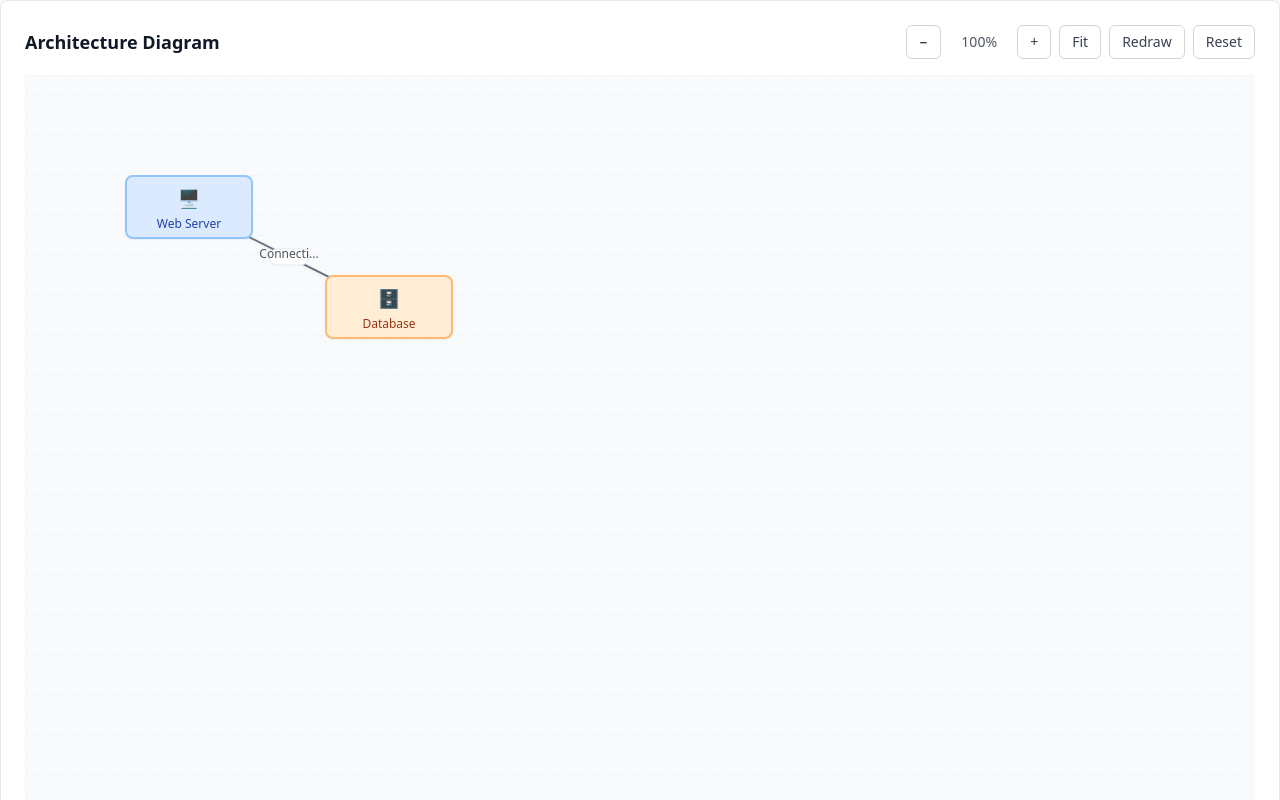
Test: ArchitectureVisualization › handles zoom in and out
Click the button "+" at (1034, 42), box [1017,25,1051,59]
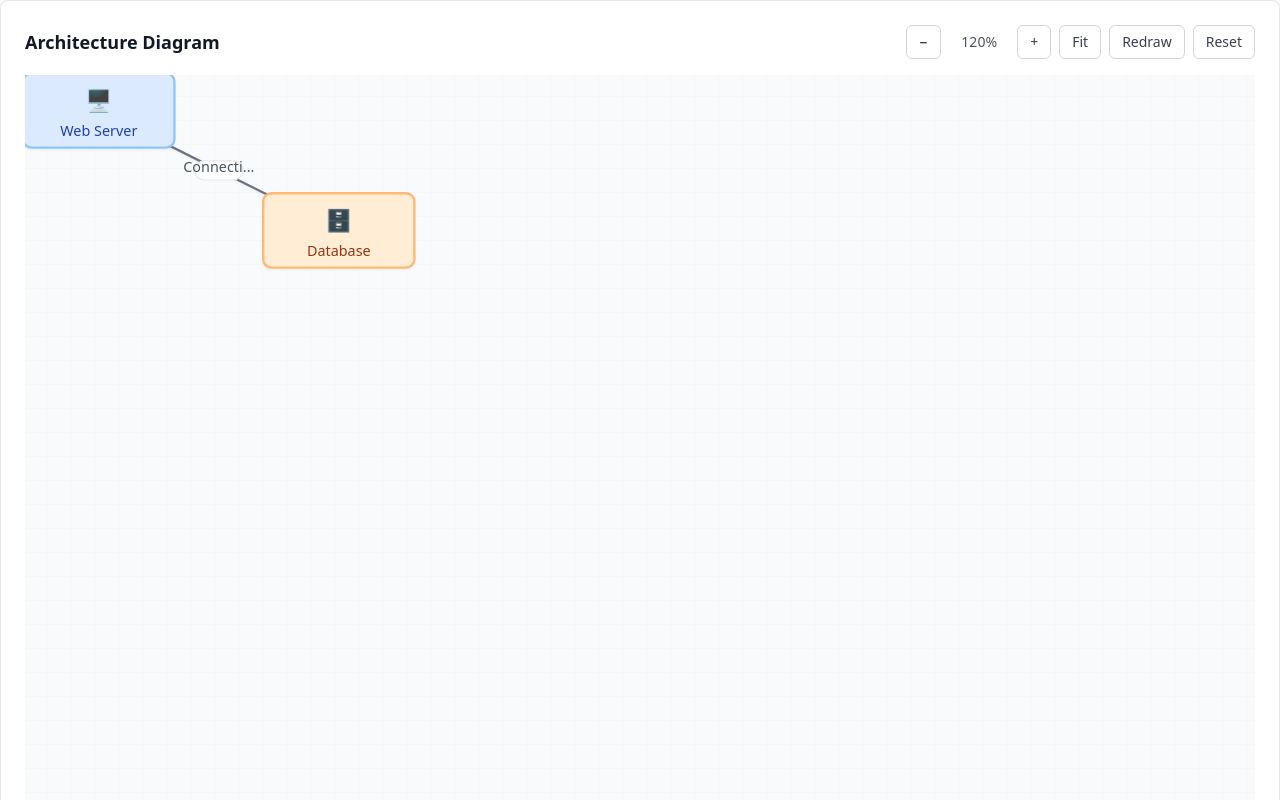
Now the text "120%" is shown, box [961,32,997,51]
Click the button "−" at (924, 42), box [906,25,941,59]
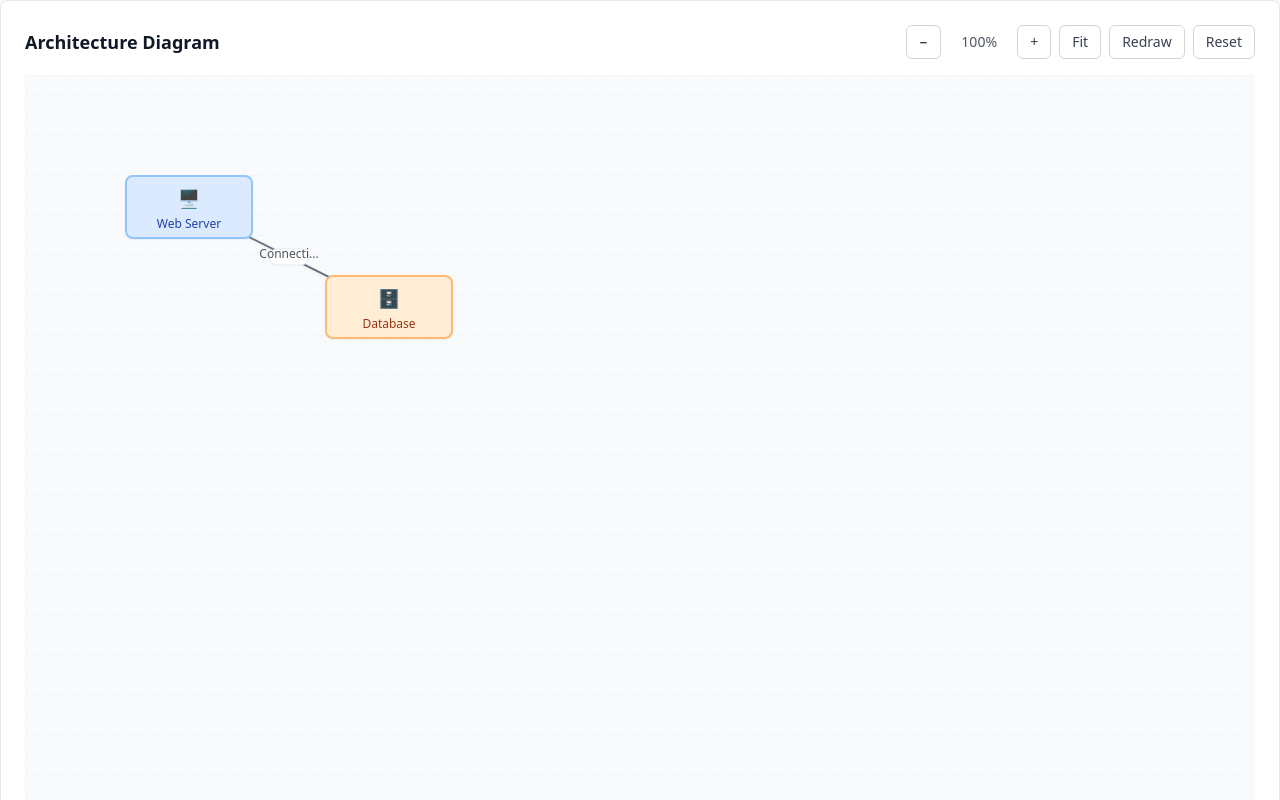
Now the text "100%" is shown, box [961,32,997,51]
Click the button "+" at (1034, 42), box [1017,25,1051,59]
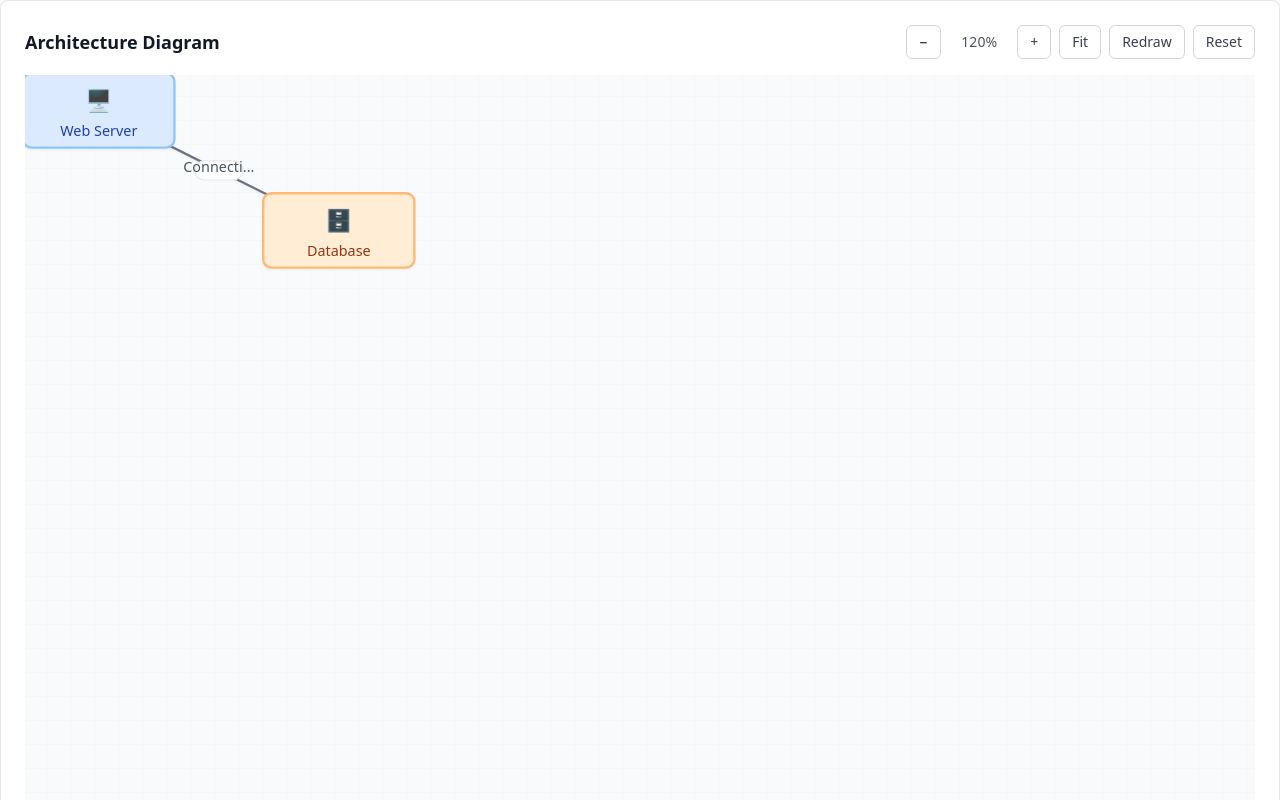
Click the button "Reset" at (1224, 42), box [1193,25,1255,59]
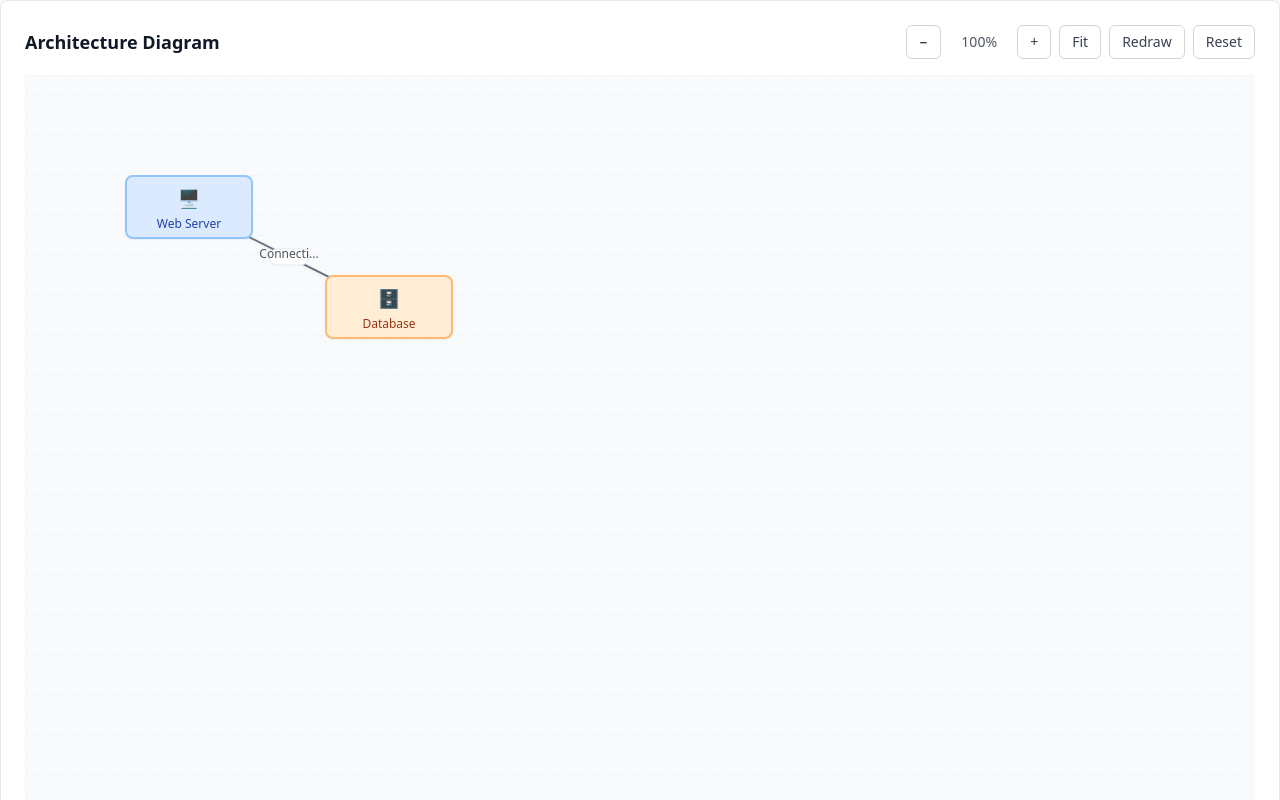
Now the text "100%" is shown, box [961,32,997,51]
